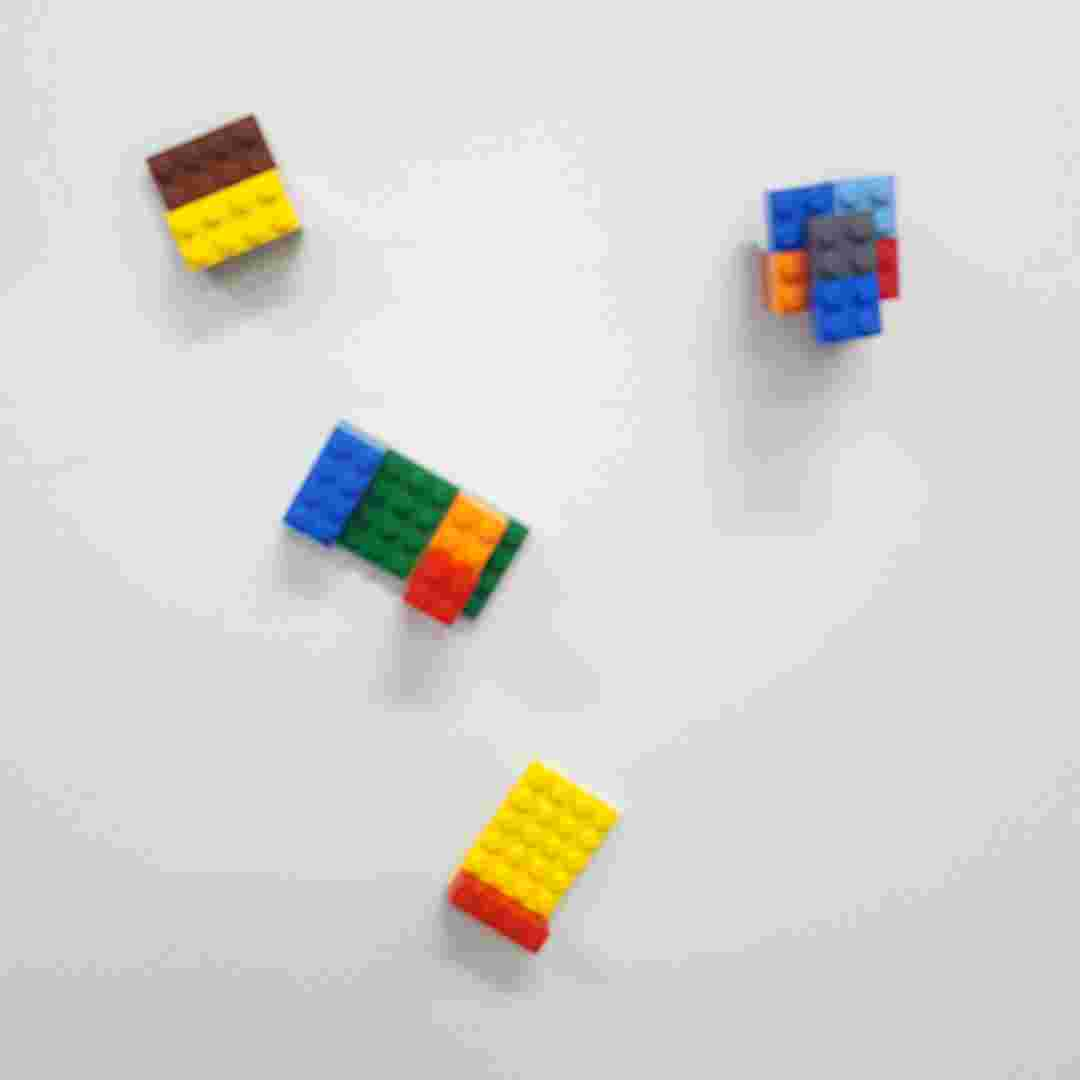LEGO: (279, 419, 538, 630), (443, 753, 628, 953), (142, 108, 301, 280), (756, 169, 906, 349)
